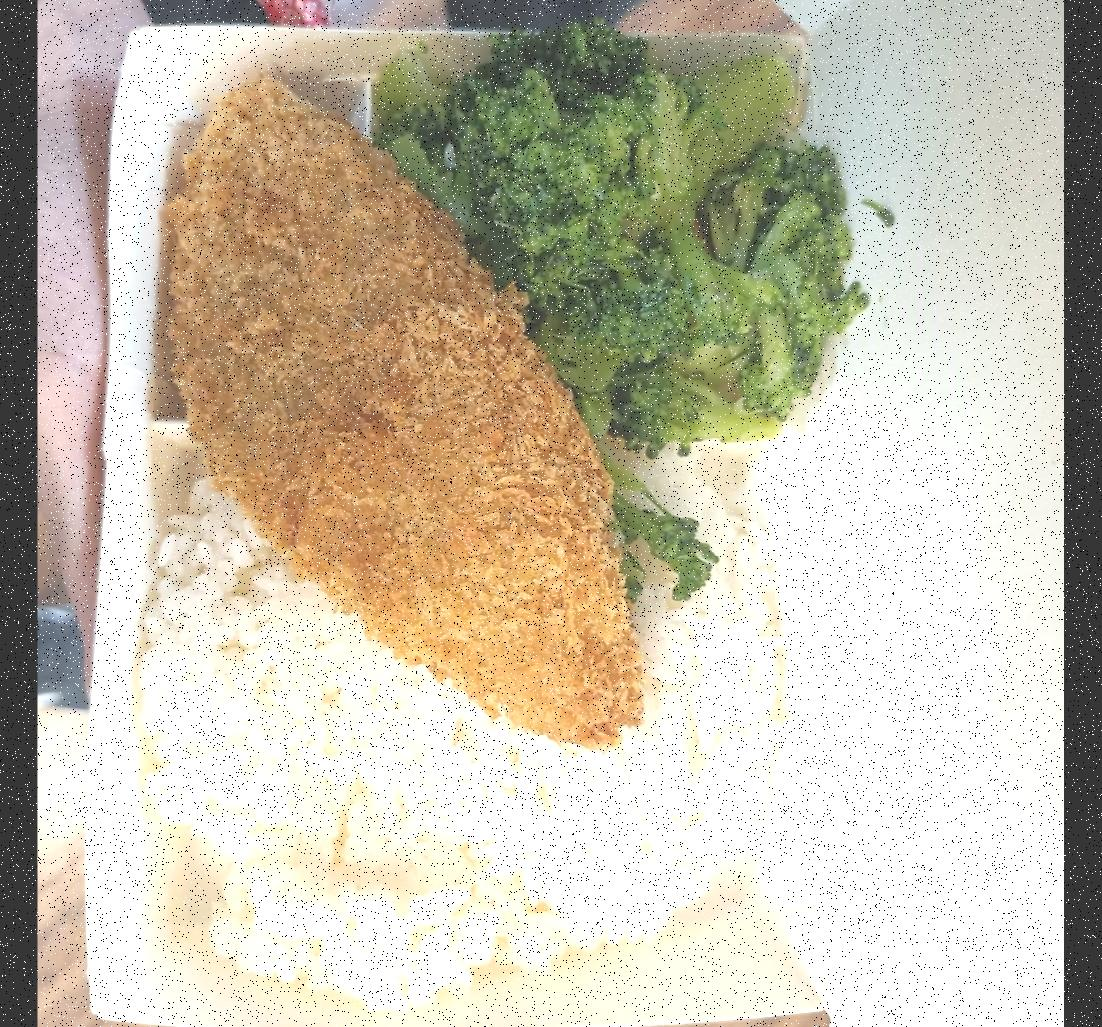box: (82, 0, 851, 1027)
fried cod steak: (153, 97, 632, 666)
side dish: (496, 43, 812, 436)
white rice: (139, 461, 798, 969)
